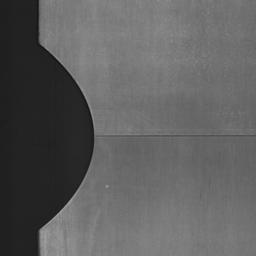Crescent gap: (41, 45, 94, 228)
